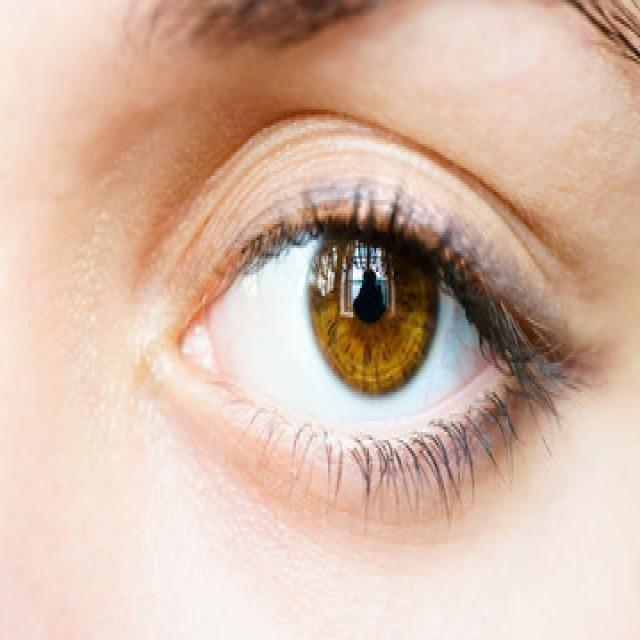Normal: (104, 128, 600, 530)
